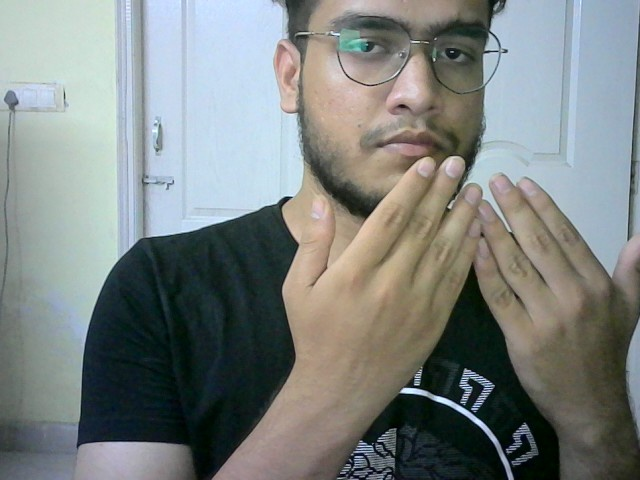Thank You: (280, 147, 640, 389)
